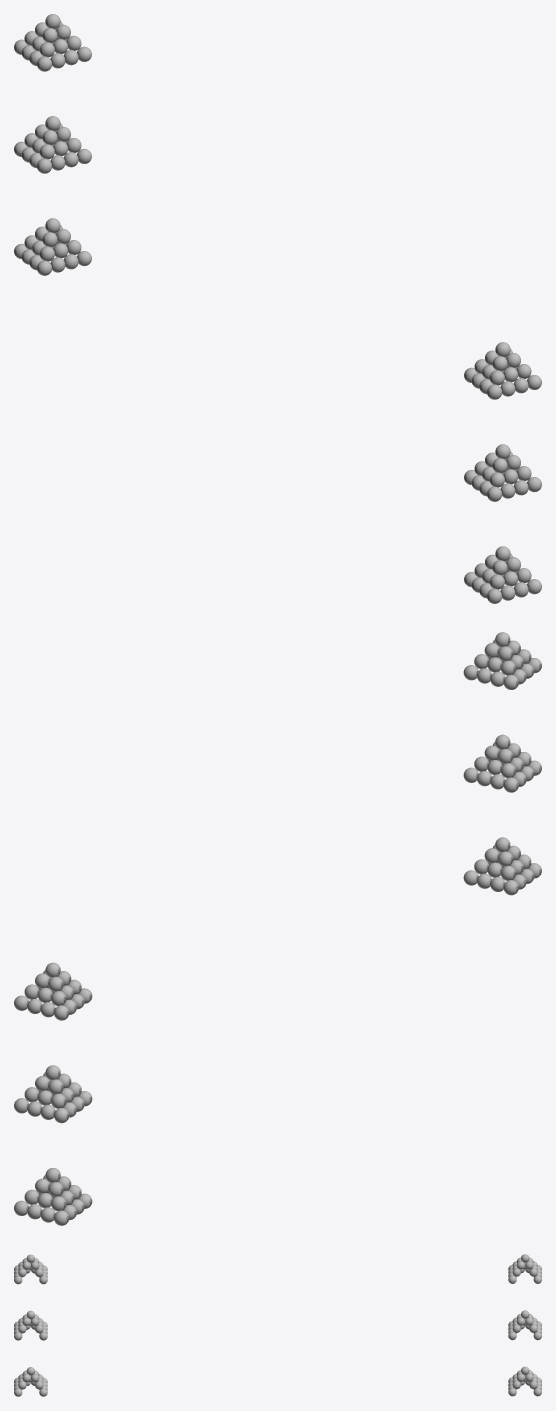
Rendered from Display Balls.glb.
The picture shows the model from 3 angles, top to bottom: view 1: azimuth 30°, elevation 25°; view 2: azimuth 150°, elevation 25°; view 3: azimuth 270°, elevation 25°; orthographic projection. The views are drawn at different scales.
Visible parts, largest first — view 1: Golf Ball_LowPoly.001; view 2: Golf Ball_LowPoly.001; view 3: Golf Ball_LowPoly.001.
Boxes of the visible parts, bbox=[...] form: Golf Ball_LowPoly.001: bbox=[14, 14, 541, 603]; Golf Ball_LowPoly.001: bbox=[14, 632, 541, 1225]; Golf Ball_LowPoly.001: bbox=[14, 1254, 541, 1396].
Size of the model in its own units: 0.5262 by 2.29 by 8.04.
1 material, 1 textured.
